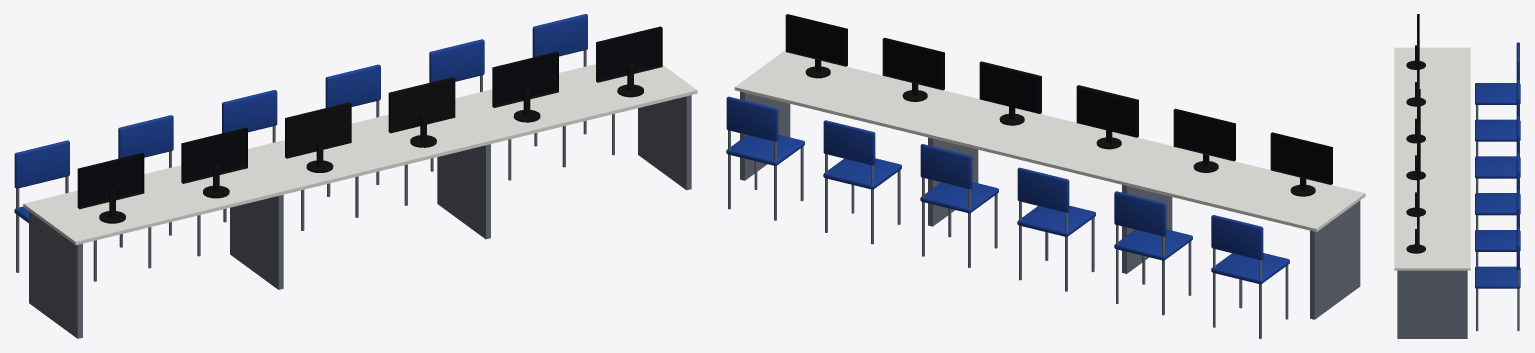
Rendered from school.desk.computer_row.glb.
3 views of the same model, side by side, from view 1: azimuth 30°, elevation 25°; view 2: azimuth 150°, elevation 25°; view 3: azimuth 270°, elevation 25° (orthographic). The views are drawn at different scales.
Visible parts, largest first — view 1: main__laminate_white, main__steel_painted, main__plastic_blue, main__plastic_black, main__screen; view 2: main__laminate_white, main__plastic_blue, main__screen, main__steel_painted, main__plastic_black; view 3: main__laminate_white, main__plastic_blue, main__steel_painted, main__plastic_black, main__screen.
Boxes of the visible parts, left/top/right/bottom form: main__laminate_white: left=23, top=64, right=697, bottom=245; main__steel_painted: left=16, top=50, right=691, bottom=338; main__plastic_blue: left=14, top=14, right=587, bottom=223; main__plastic_black: left=77, top=26, right=662, bottom=223; main__screen: left=79, top=28, right=659, bottom=206; main__laminate_white: left=734, top=51, right=1365, bottom=231; main__plastic_blue: left=726, top=96, right=1289, bottom=284; main__screen: left=787, top=16, right=1330, bottom=183; main__steel_painted: left=728, top=91, right=1360, bottom=338; main__plastic_black: left=785, top=14, right=1332, bottom=196; main__laminate_white: left=1394, top=47, right=1470, bottom=270; main__plastic_blue: left=1475, top=42, right=1520, bottom=288; main__steel_painted: left=1397, top=105, right=1519, bottom=338; main__plastic_black: left=1406, top=14, right=1425, bottom=253; main__screen: left=1419, top=15, right=1420, bottom=247.
Size of the model in its own units: 4.8 by 1.14 by 1.16.
